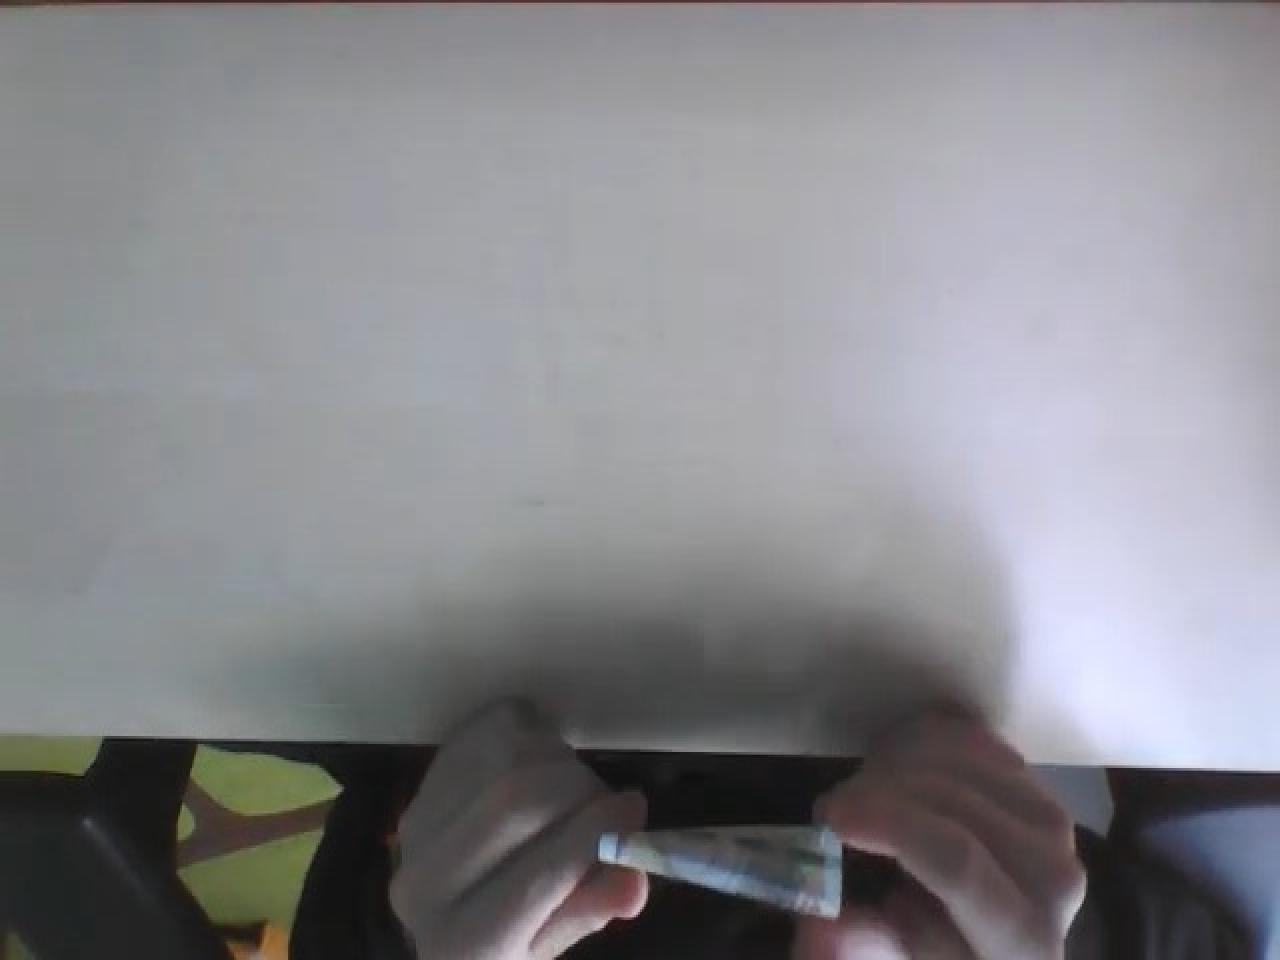100leva: (594, 819, 848, 926)
